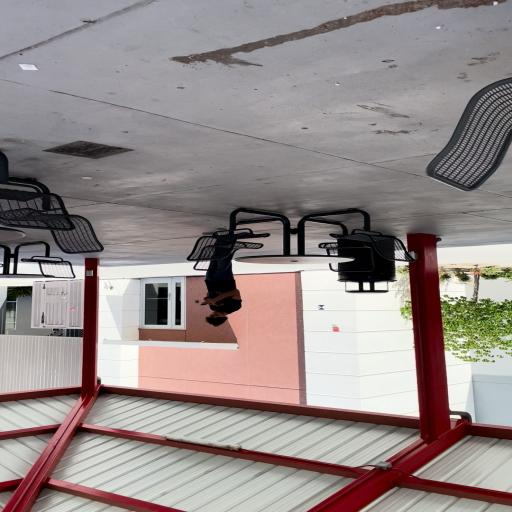target2: (317, 304, 325, 310)
